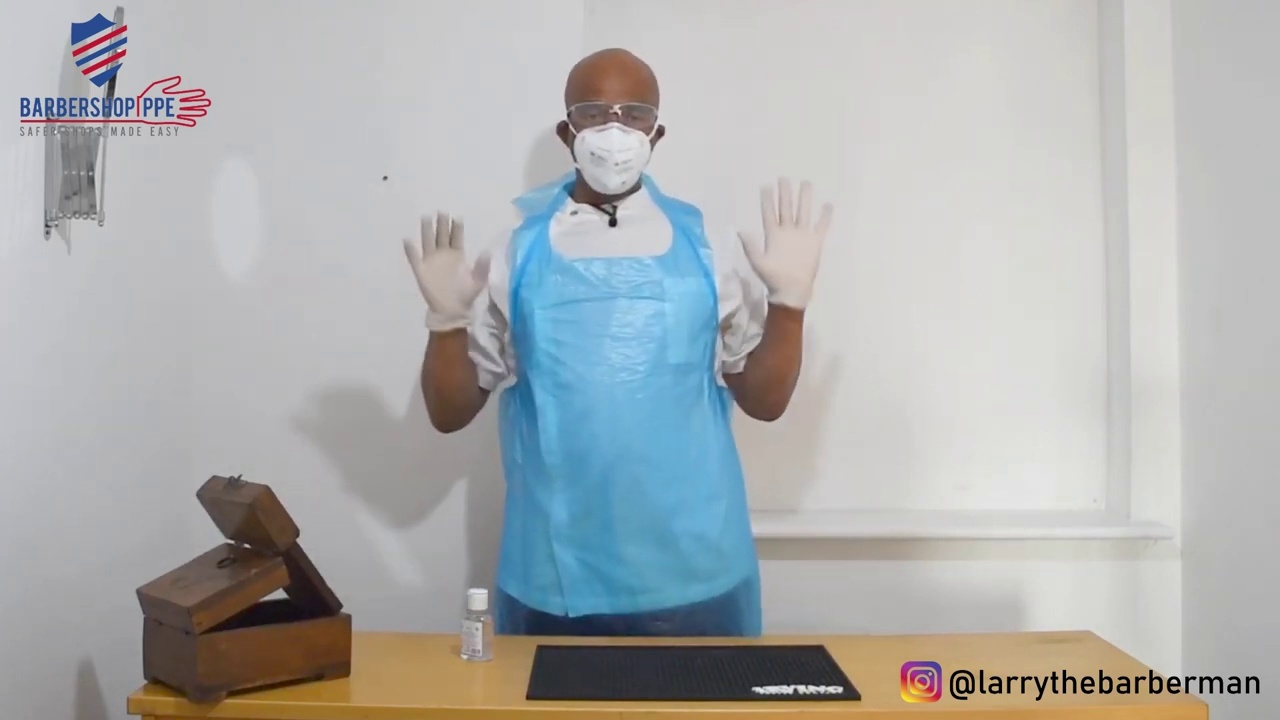Apron: (503, 172, 754, 654)
Glove: (723, 173, 862, 303), (369, 210, 509, 329)
Mask: (540, 119, 701, 196)
No_Hairnet: (550, 44, 687, 97)
